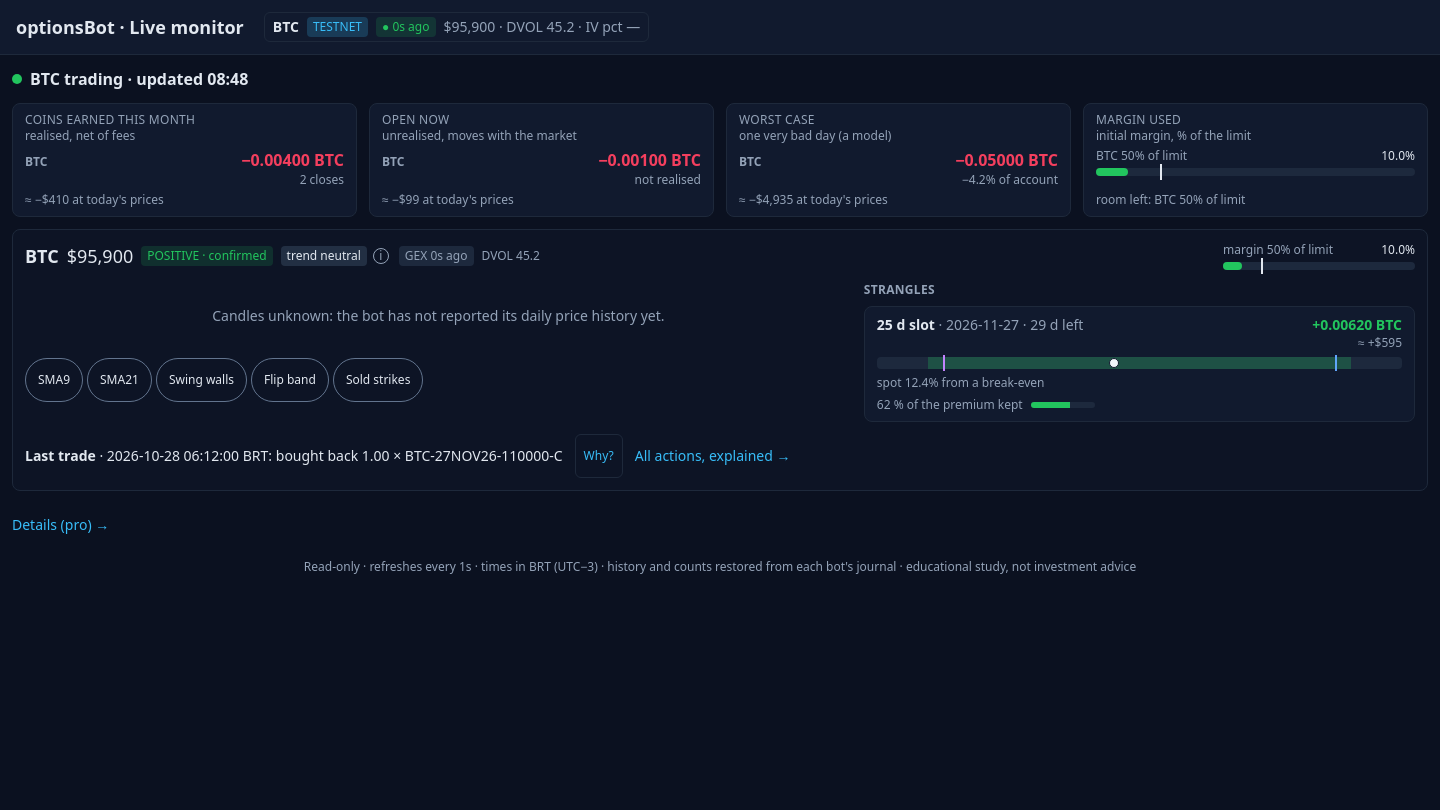
Test: Scenario: a losing month › a losing last trade: Why? shows its reason, rule numbers and past result net of fees, in coin and USD
expect the element named "BTC · last trade" shows "bought back 1.00 × BTC-27NOV26-110000-C": met, box [276,446,563,465]
What coordinates should you click on to do the following:
click the button "Why?"
I would click on:
 (599, 456)
Its box is [575,434,623,478].
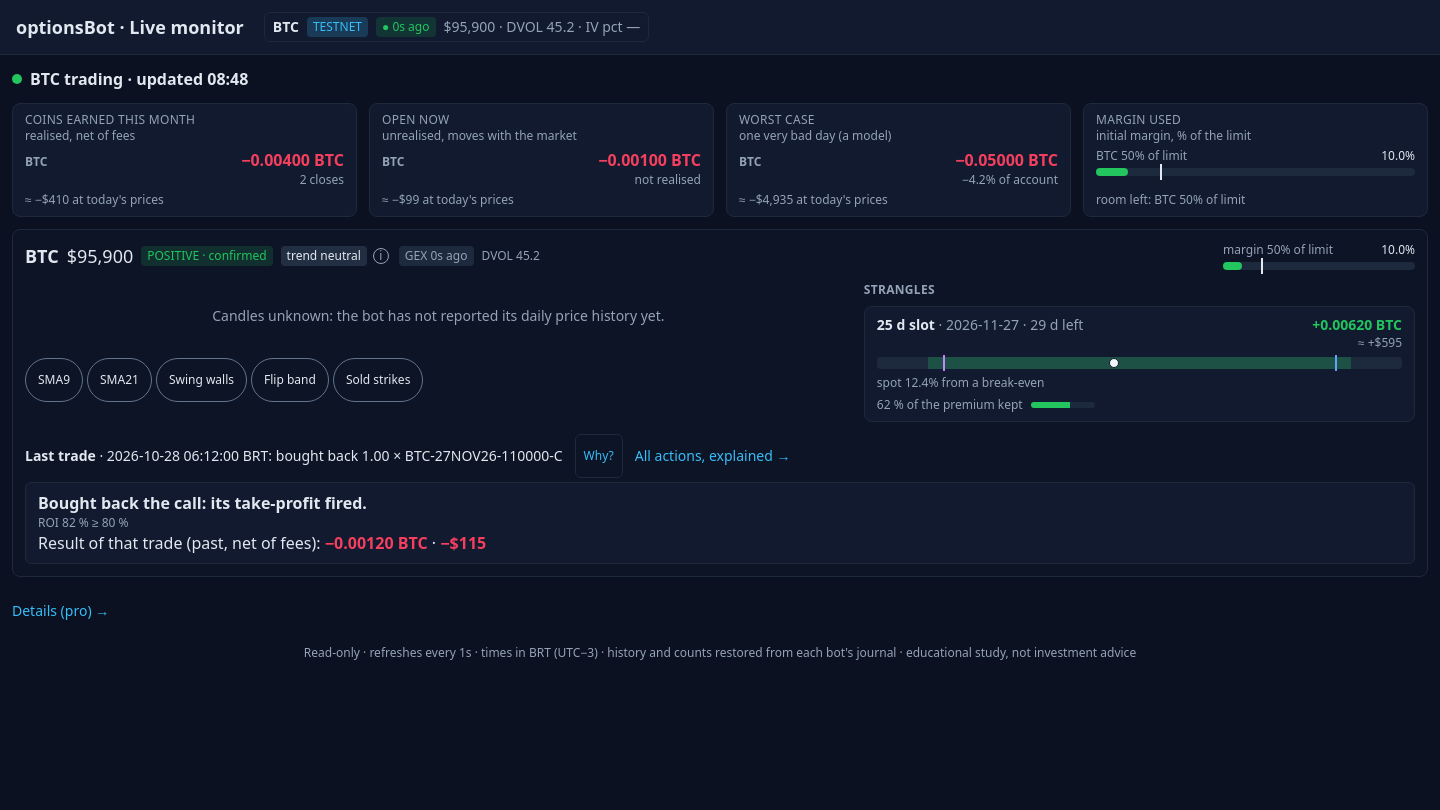
expect the element with test id "last-trade-why" shows "Bought back the call: its take-profit fired.": met, box [38,492,367,514]
expect the element with test id "last-trade-why" shows "ROI 82 % ≥ 80 %": met, box [38,514,128,531]
expect the element with test id "last-trade-why" shows "Result of that trade (past, net of fees): −0.00120 BTC · −$115": met, box [25,482,1415,564]
